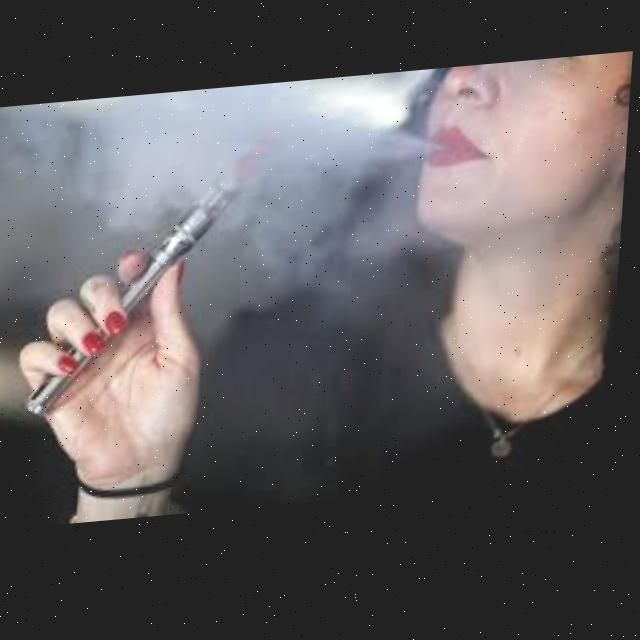vape: (30, 185, 233, 418)
